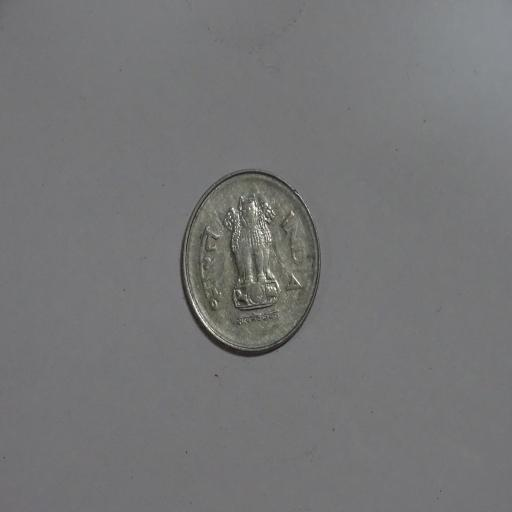rupee1: (179, 168, 323, 355)
